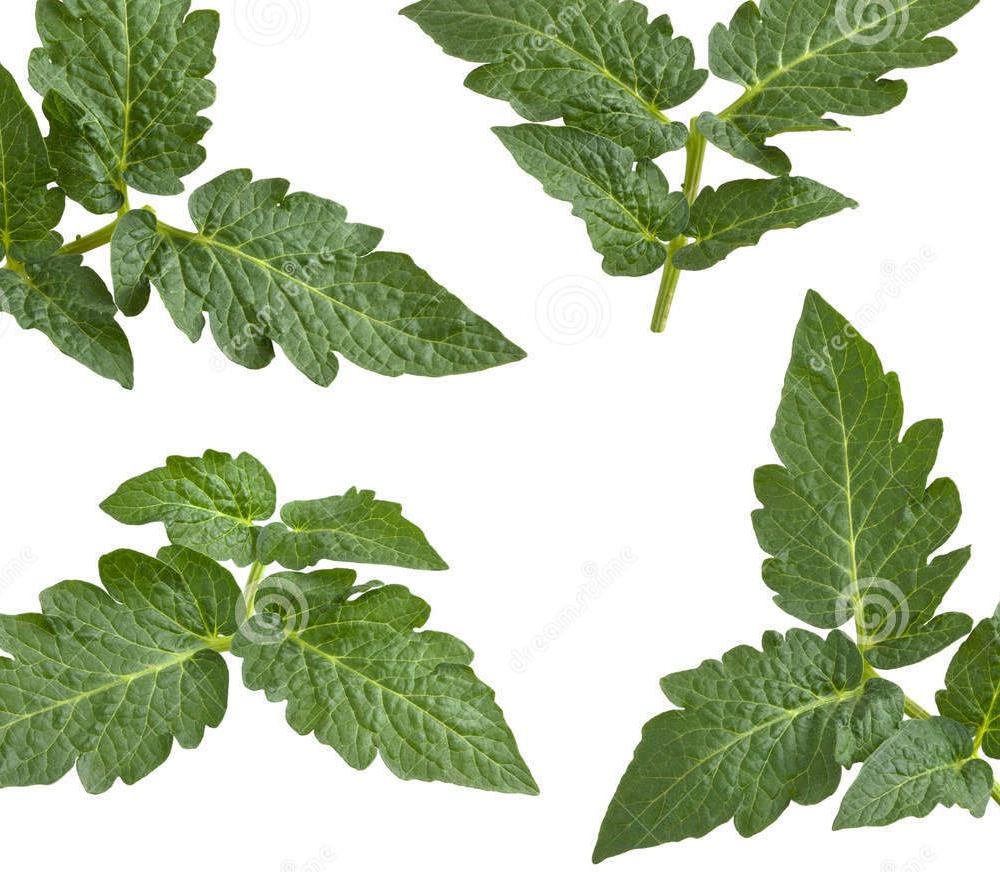Tomato leaf: (127, 159, 559, 420), (747, 275, 996, 700), (247, 556, 574, 824), (0, 524, 246, 844), (367, 0, 703, 166), (5, 0, 249, 207), (703, 0, 1000, 159)
